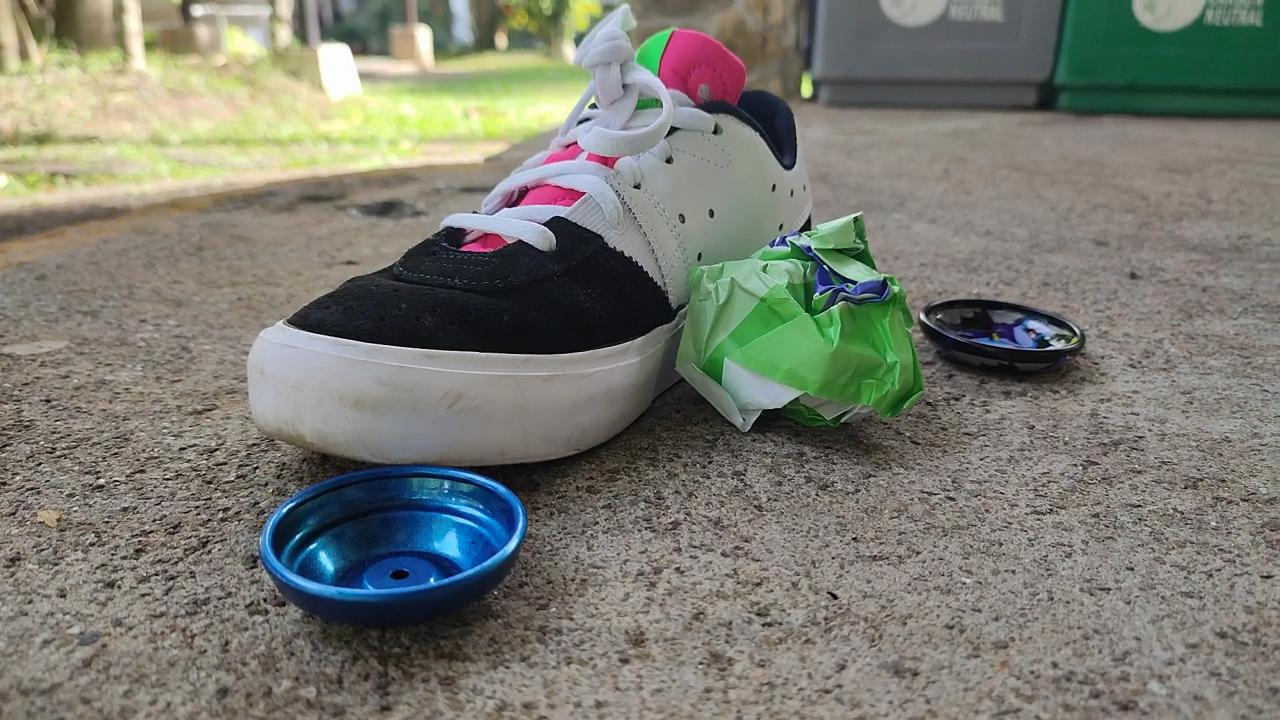Paper: (672, 191, 934, 471)
